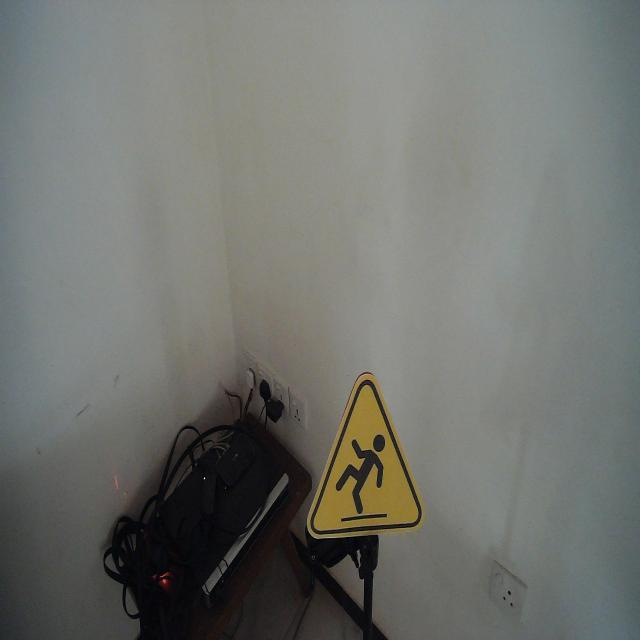slippery_sign: (306, 369, 426, 542)
